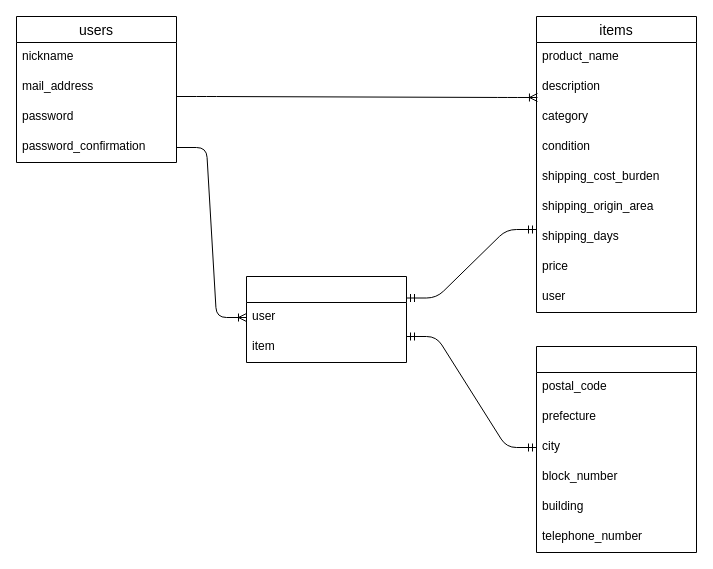
The diagram is 713 pixels wide and 569 high, and some of its shapes have lost their labels. Each missing label, with the box of its shape:
purchase_records: (246, 276, 406, 362)
shipping_adresses: (536, 346, 696, 552)
